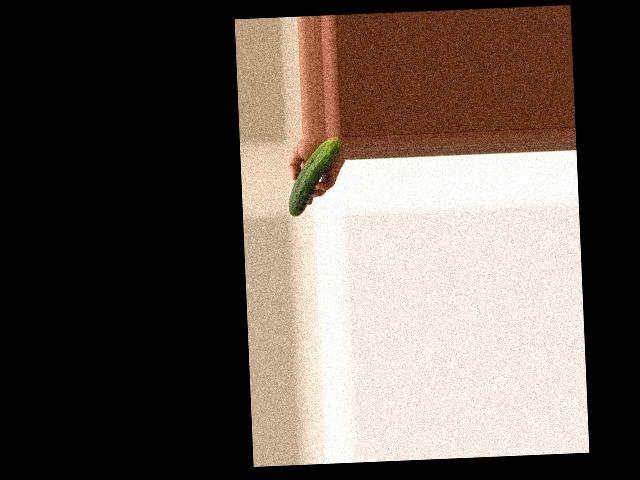cucumber: (286, 137, 344, 217)
